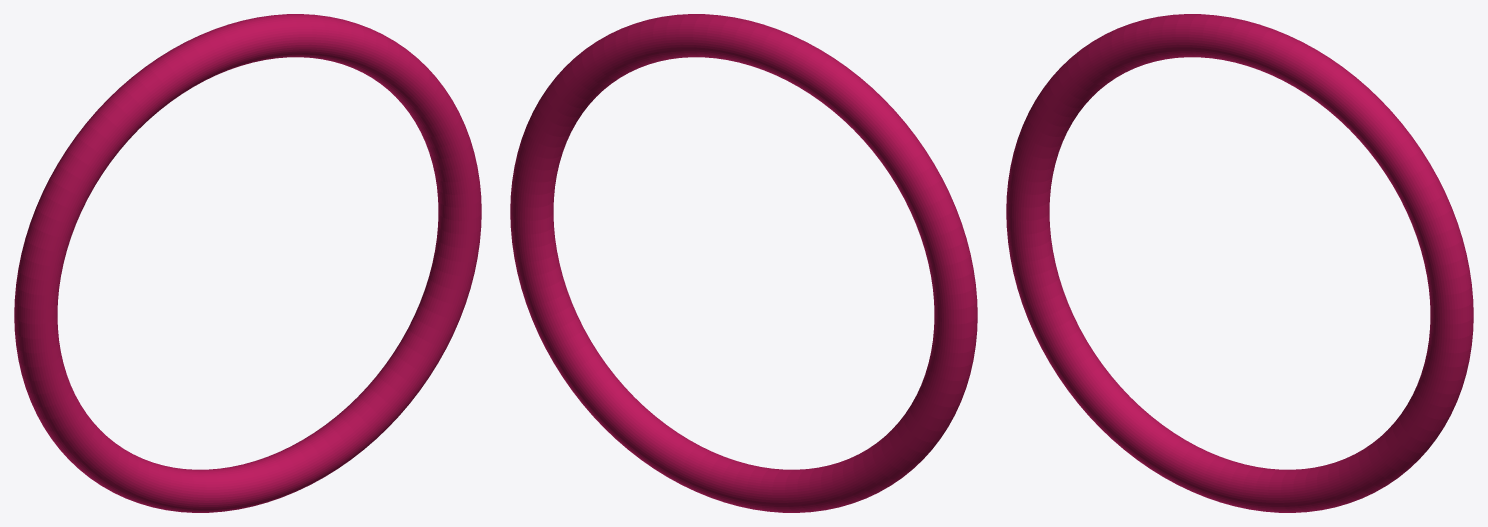
3 renders of one model, left to right at view 1: azimuth 30°, elevation 25°; view 2: azimuth 150°, elevation 25°; view 3: azimuth 330°, elevation 25°, orthographic.
Parts seen in each view (by area): view 1: world; view 2: world; view 3: world.
Boxes of the visible parts, x1=… form: world: x1=14, y1=14, x2=481, y2=512; world: x1=510, y1=14, x2=977, y2=512; world: x1=1006, y1=14, x2=1473, y2=512.
Size of the model in its own units: 31.2 by 31.2 by 2.53.
